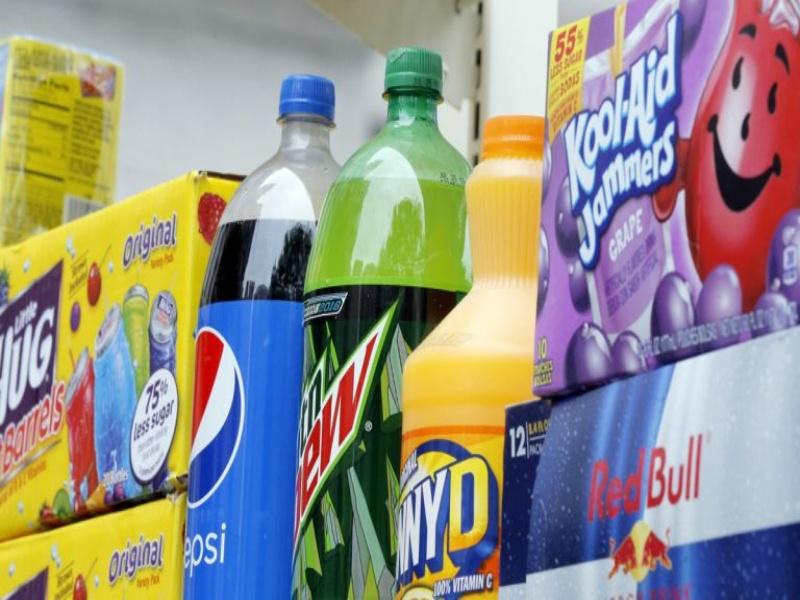Plastic bottle: (118, 59, 348, 590), (295, 15, 493, 600)
